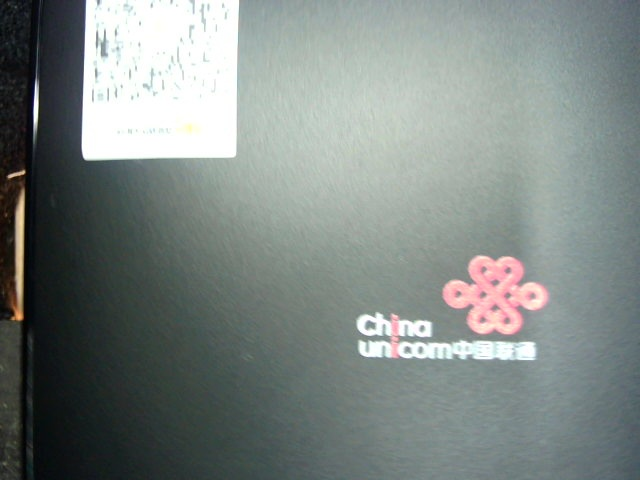AC_ChinaUnicom: (343, 248, 550, 366)
